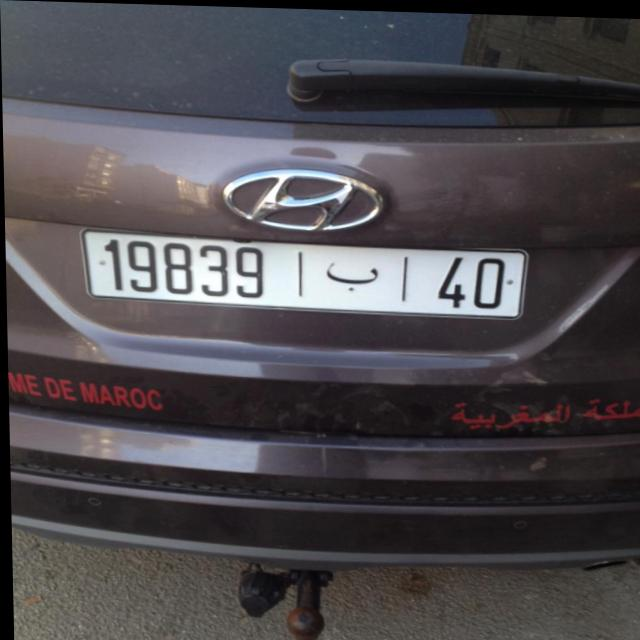License-Plate: (81, 229, 526, 315)
